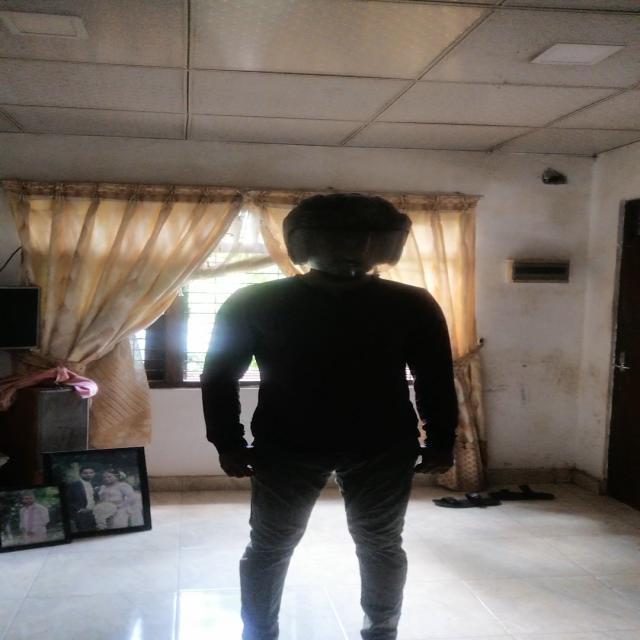Helmet_Wearer: (254, 192, 426, 291)
Person: (194, 187, 460, 640)
